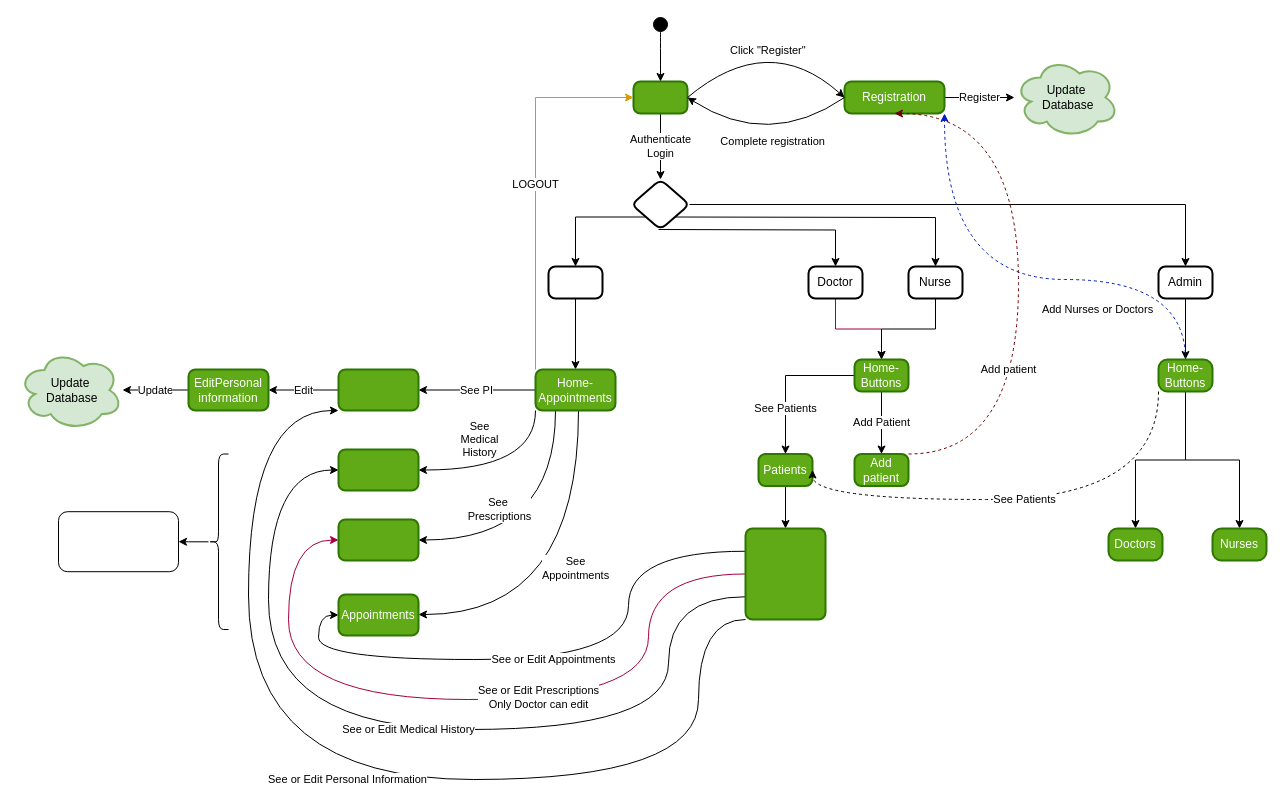
Some shapes in this 1284 by 803 pixel diagram are drawn without their labels. Here are the shapes that lost their labels. From the top down, the centre of each, then its label:
the point at 660,97: Login
the point at 660,204: Role
the point at 575,282: Patient
the point at 378,389: Personal information
the point at 378,469: Medical History
the point at 118,541: Only Doctors and Nurses can Edit, not user himself
the point at 378,539: Prescriptions
the point at 785,573: Patient- Appointments Prescriptions History Personal Info
